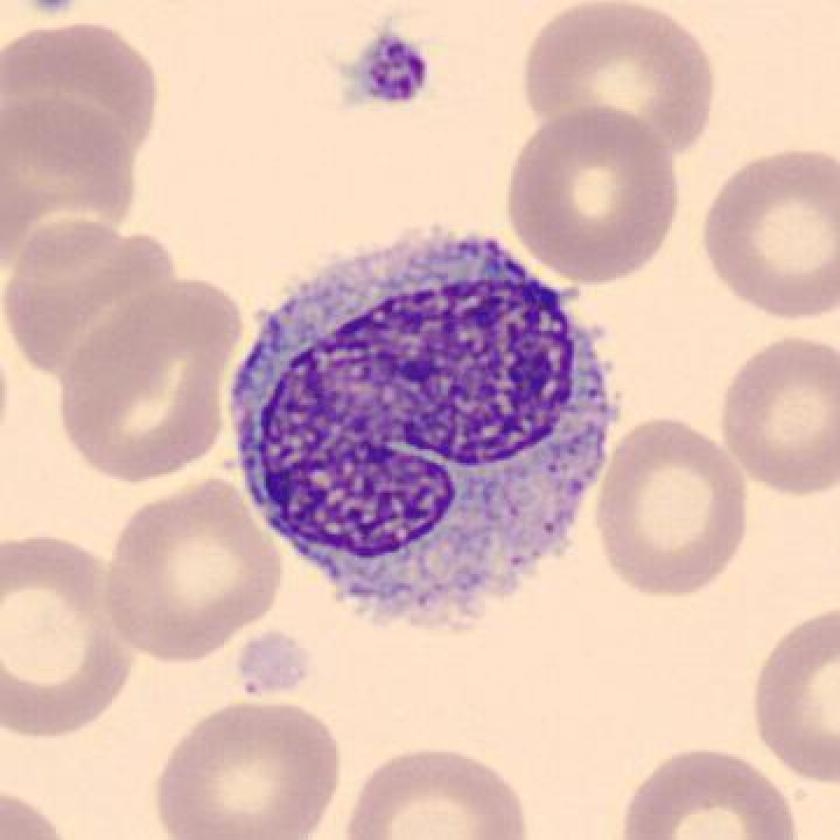monocyte: (216, 212, 631, 642)
